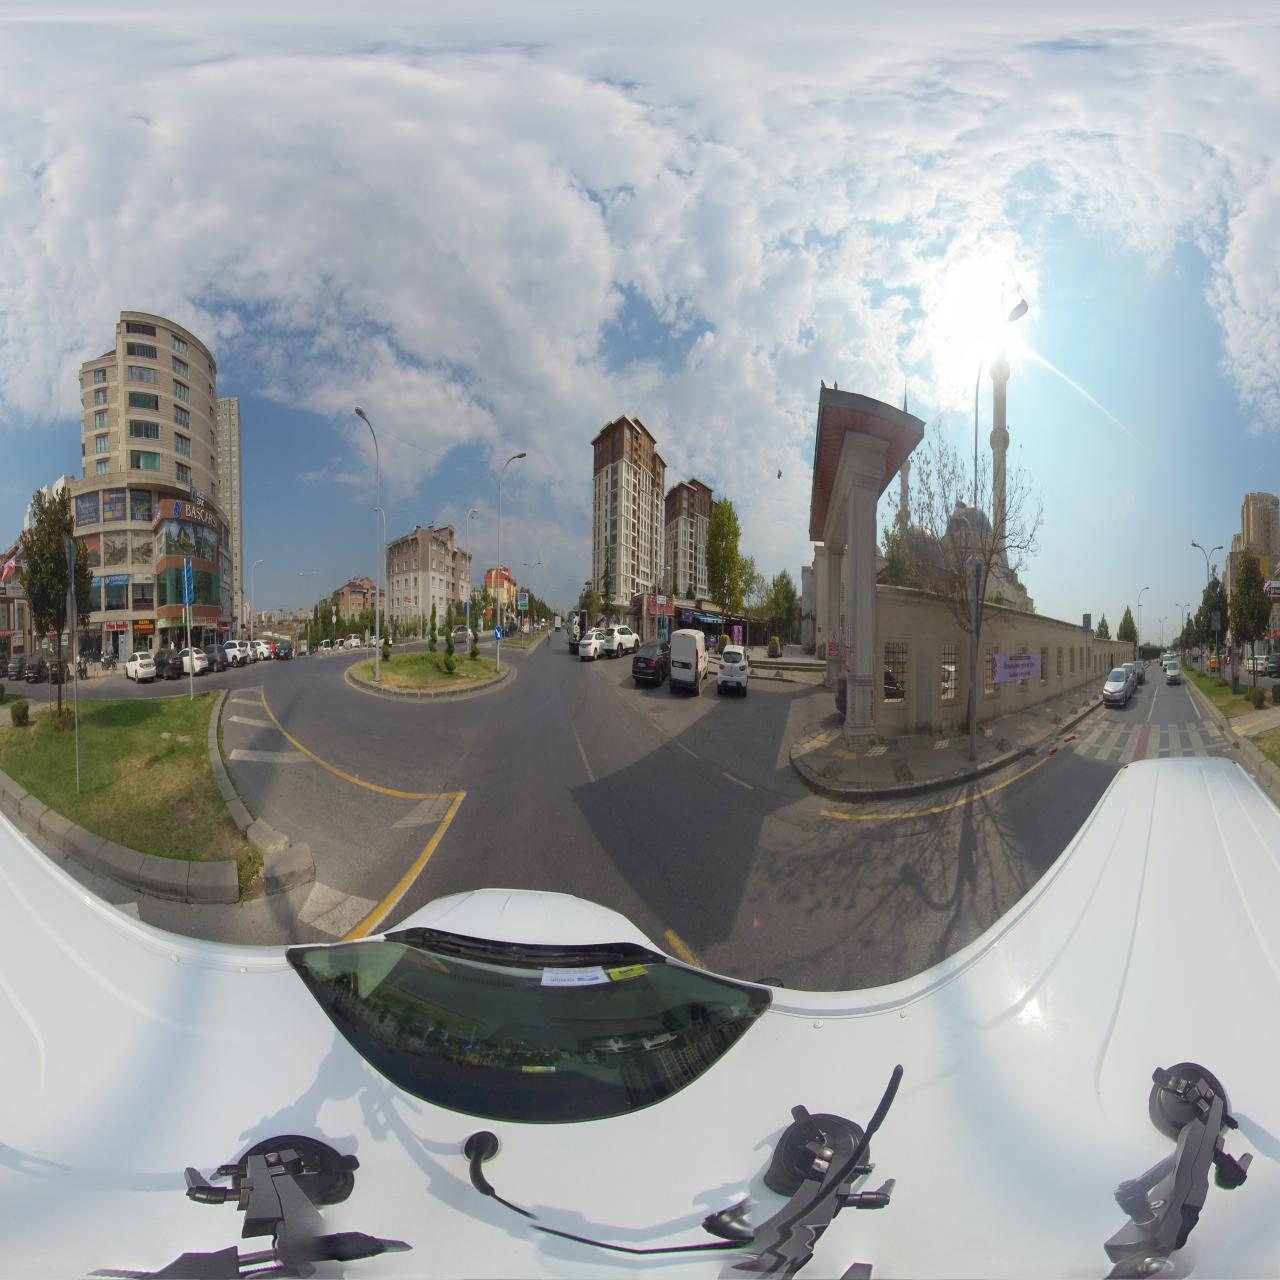SignStore: (134, 619, 155, 634), (105, 620, 129, 631), (104, 574, 128, 585), (131, 573, 155, 584), (6, 584, 22, 595), (192, 617, 206, 626), (91, 576, 101, 587), (172, 617, 183, 626), (206, 617, 217, 625), (0, 629, 12, 636), (13, 631, 23, 638), (159, 618, 165, 628)
